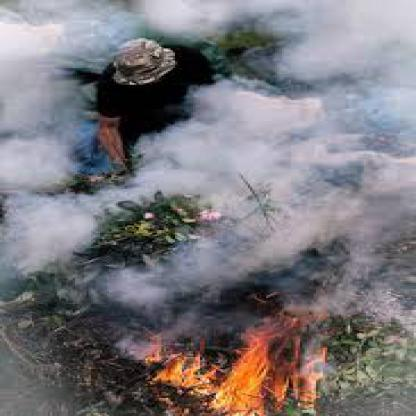Fire: (149, 326, 319, 410)
Smoke: (153, 91, 383, 202), (0, 5, 80, 194)
